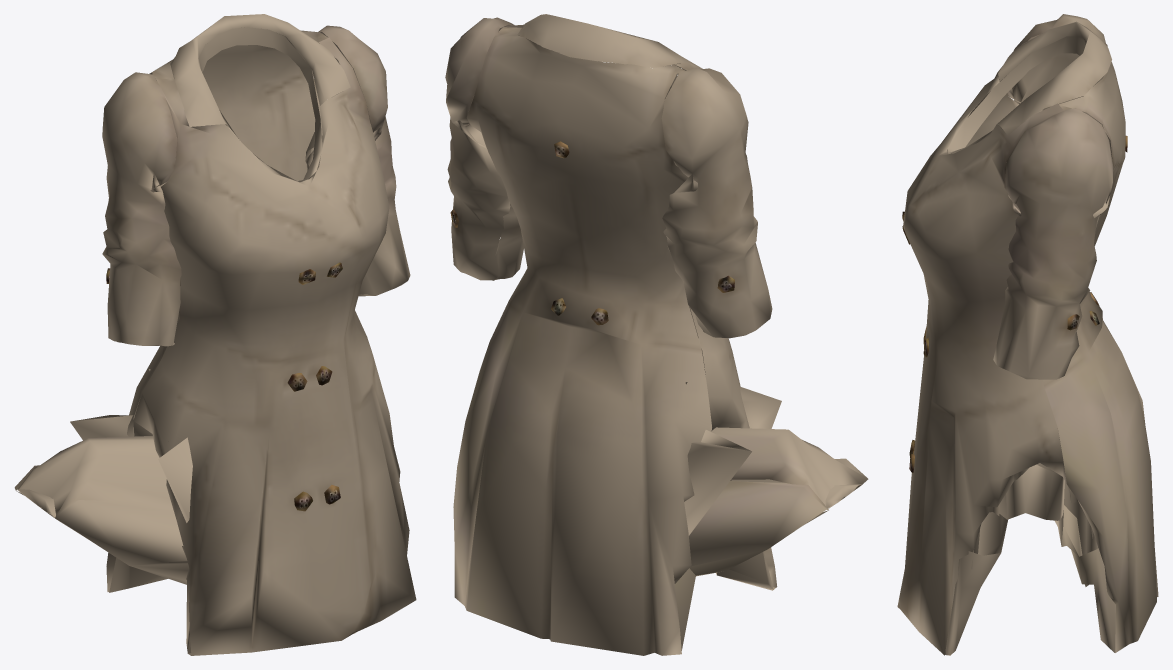
Rendered from tan_womans_coat_lo.glb.
3 views of the same model, side by side, from view 1: azimuth 30°, elevation 25°; view 2: azimuth 150°, elevation 25°; view 3: azimuth 270°, elevation 25° (orthographic). The views are drawn at different scales.
Visible parts, largest first — view 1: defaultMaterial; view 2: defaultMaterial; view 3: defaultMaterial.
Part boxes in pixels (x1=…): defaultMaterial: x1=14, y1=14, x2=416, y2=655; defaultMaterial: x1=445, y1=14, x2=868, y2=655; defaultMaterial: x1=897, y1=14, x2=1158, y2=655.
Size of the model in its own units: 0.6927 by 1 by 0.4179.
Materials: 2 (2 with a texture image).
